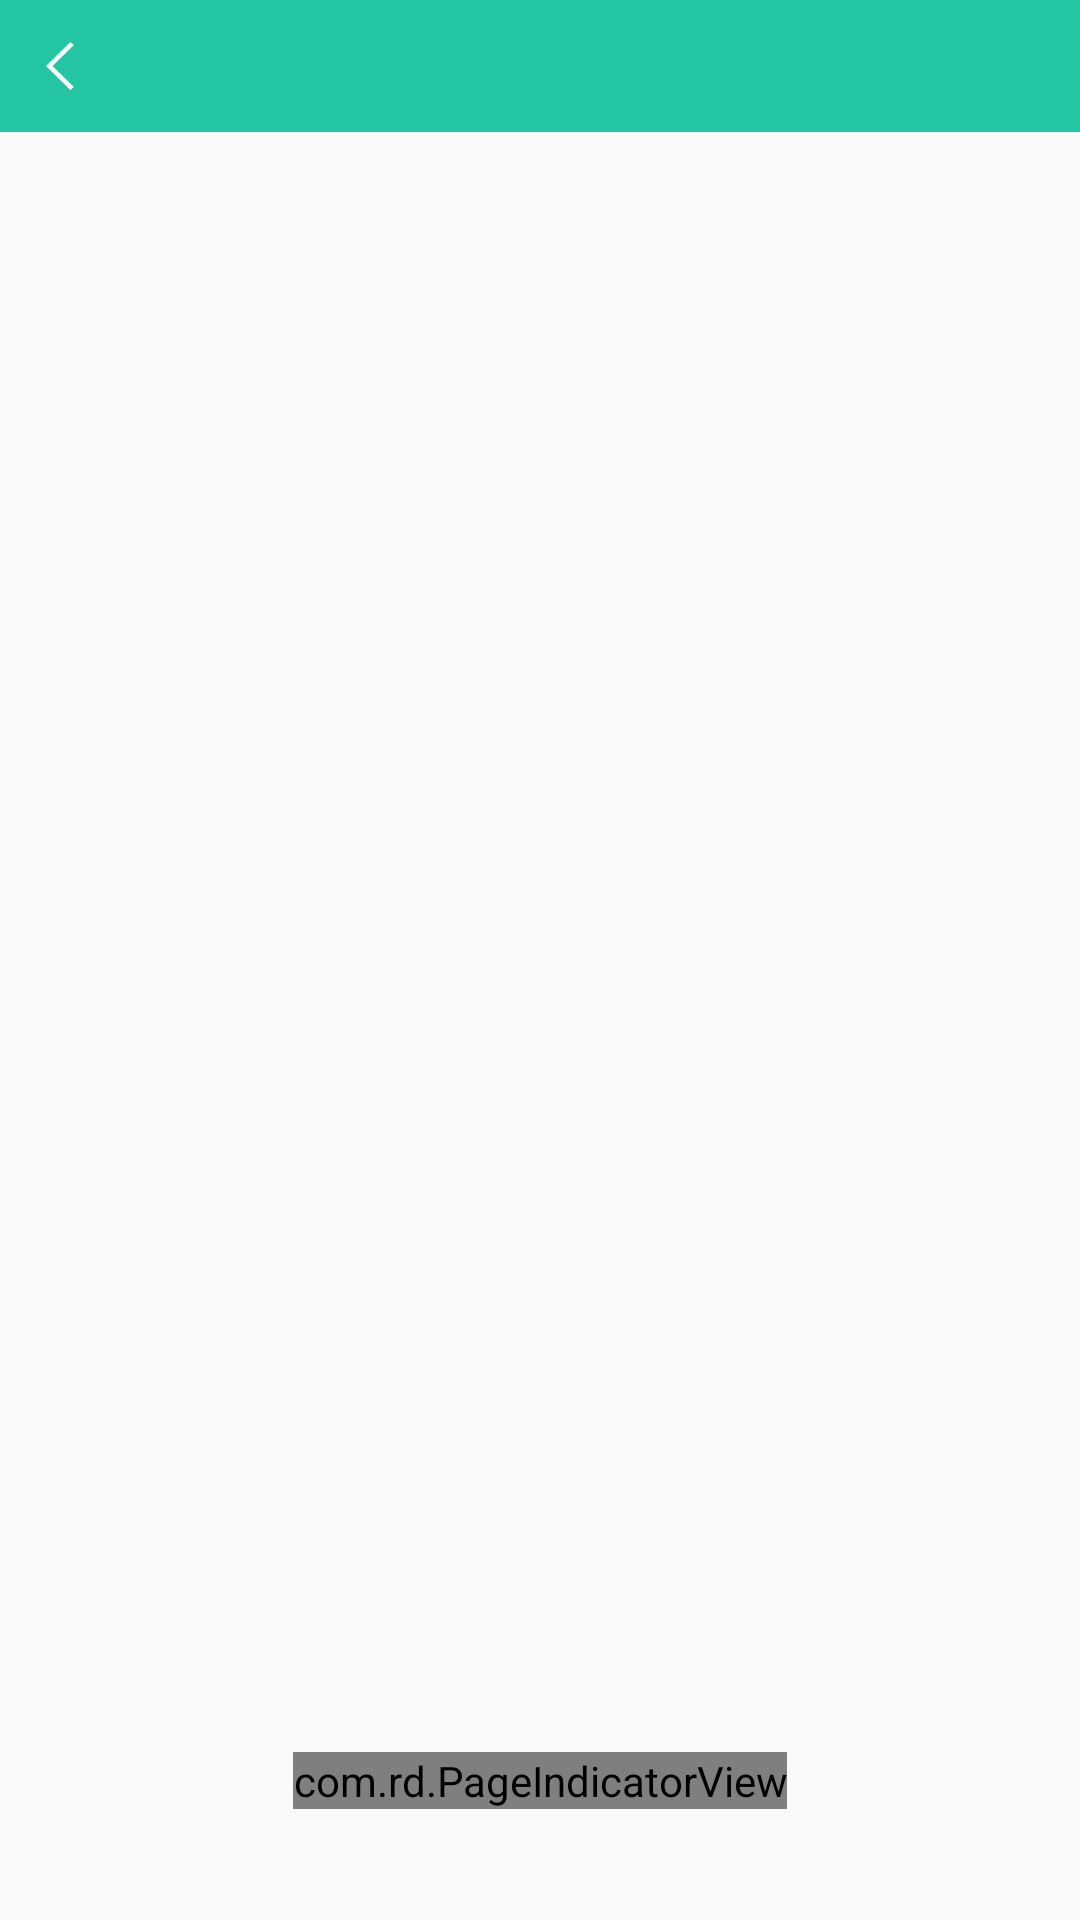

Named icons in this screenshot (1080w x 1920h) and their centers, (x=x, y=y):
back: (x=60, y=66)
